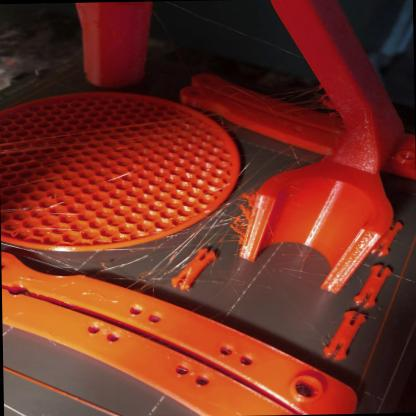fail: (240, 138, 331, 178), (268, 88, 342, 126), (132, 248, 189, 294), (220, 189, 259, 244)
